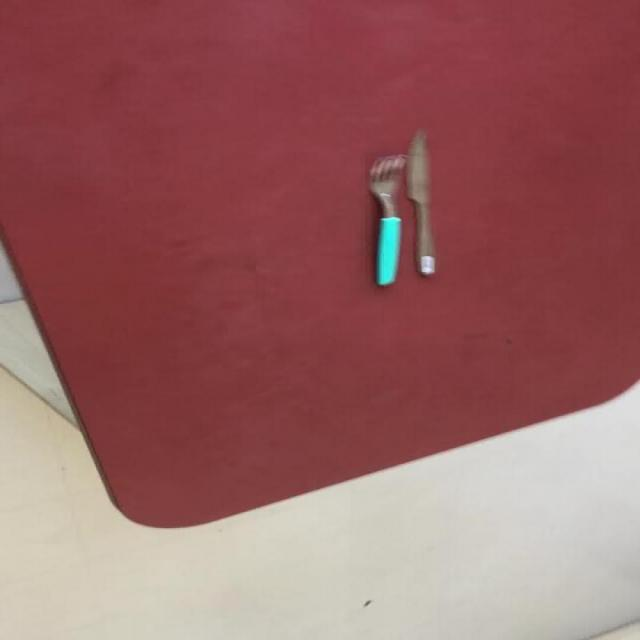Fork: (366, 153, 405, 286)
Knife: (404, 129, 435, 276)
